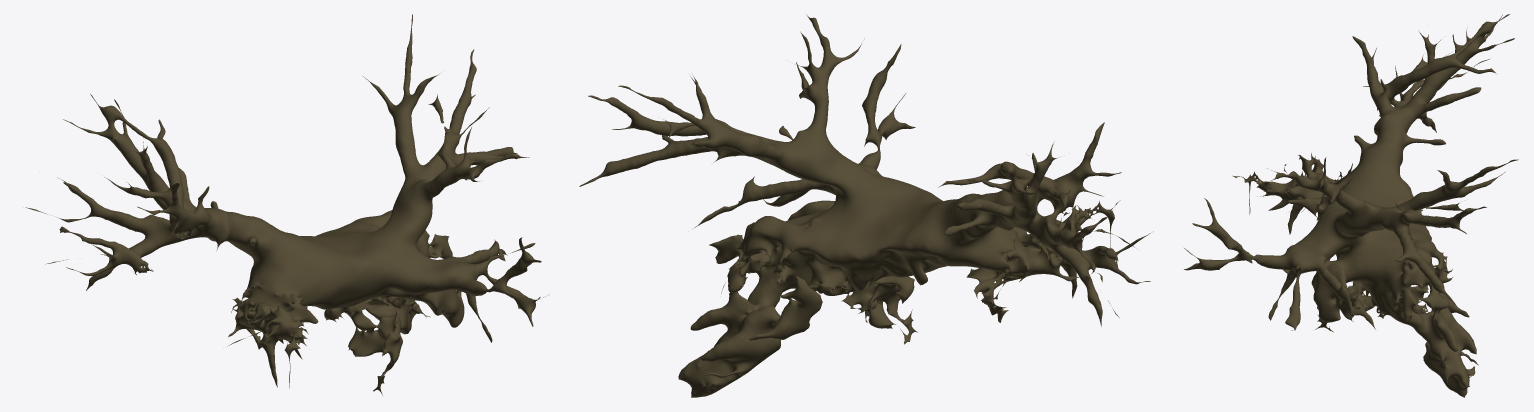
Rendered from Left Atrium.obj.
3 views of the same model, side by side, from view 1: azimuth 30°, elevation 25°; view 2: azimuth 150°, elevation 25°; view 3: azimuth 270°, elevation 25° (orthographic). The views are drawn at different scales.
Parts seen in each view (by area): view 1: grp1; view 2: grp1; view 3: grp1.
Boxes of the visible parts, x1,y1,x2,y2 form: grp1: (25,14,549,395); grp1: (579,14,1153,397); grp1: (1184,14,1518,397).
Size of the model in its own units: 204 by 118 by 140.
